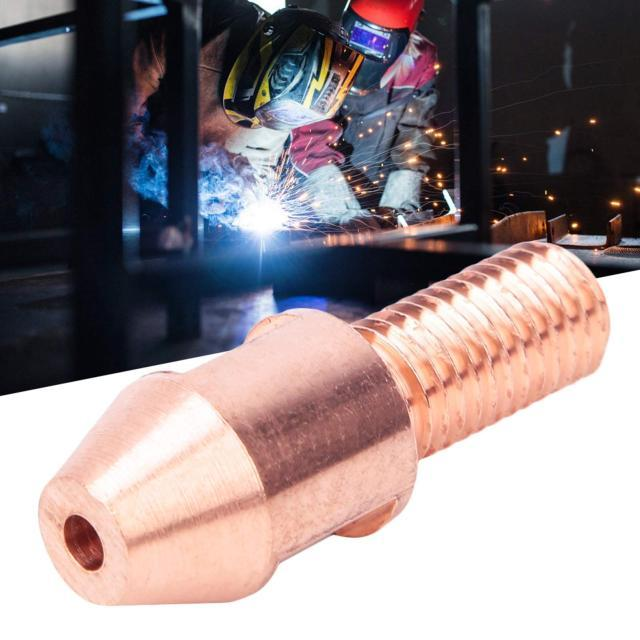with_helmet: (222, 9, 364, 128), (338, 0, 451, 93)
